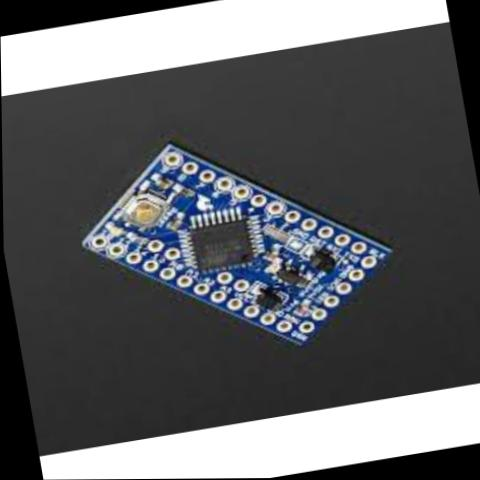Arduino-Pro-Mini: (50, 95, 417, 393)
